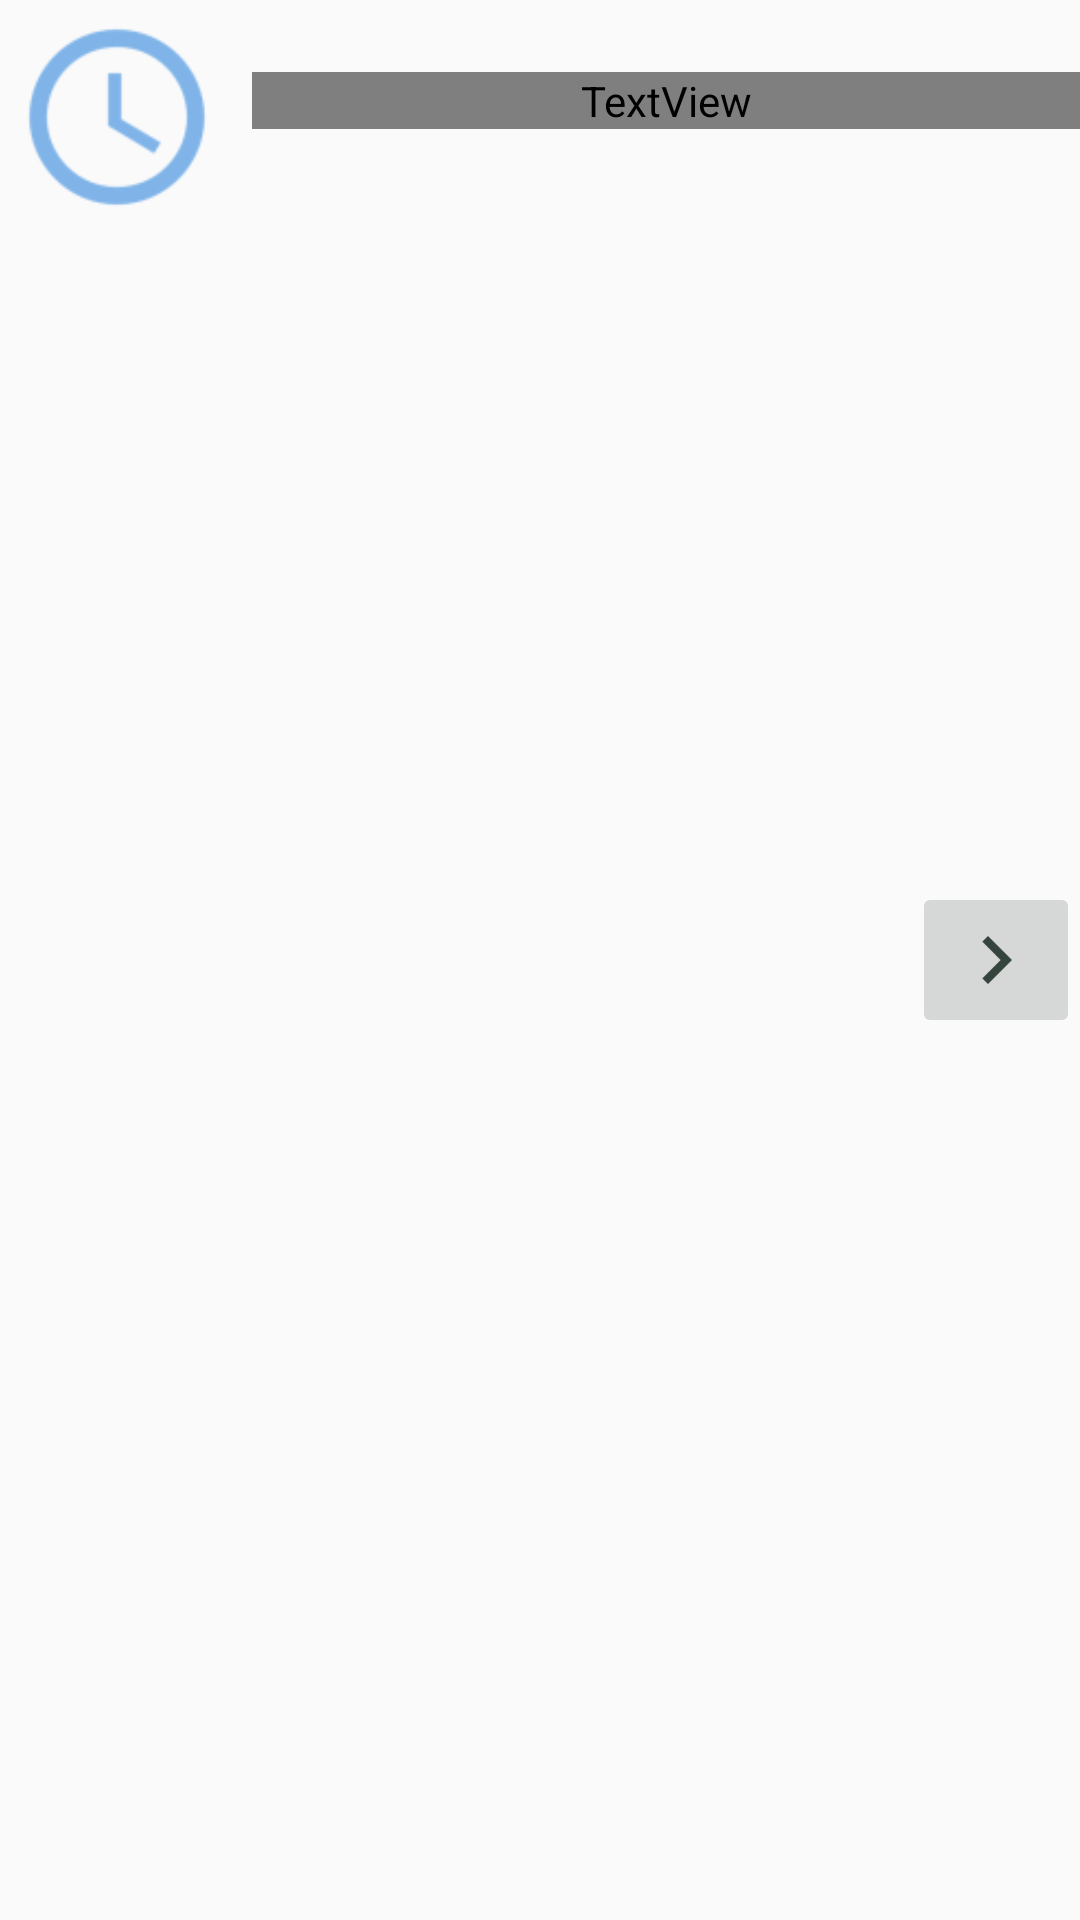

Screen size 1080×1920. Icon name, then its box in pixels as Rect(x1, y1, x2, y2):
clock: Rect(29, 29, 205, 205)
right arrow: Rect(924, 900, 1068, 1020)
